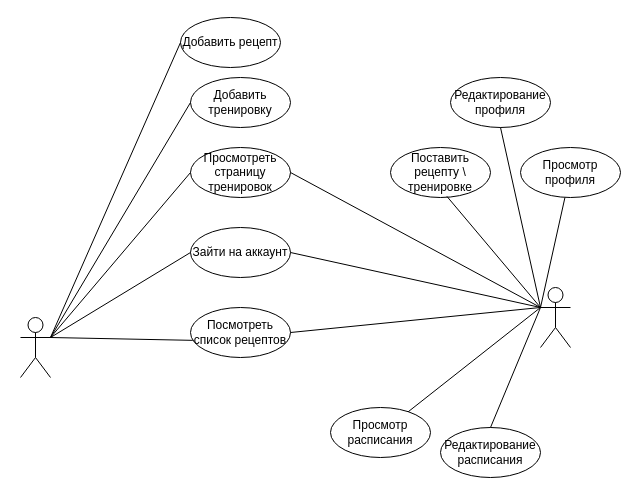
The diagram is 638 pixels wide and 495 high, and some of its shapes have lost their labels. The centre of each missing label's shape, as x and y in pixels:
"Админ" belongs at point 35,347.
"Студент" belongs at point 555,317.
